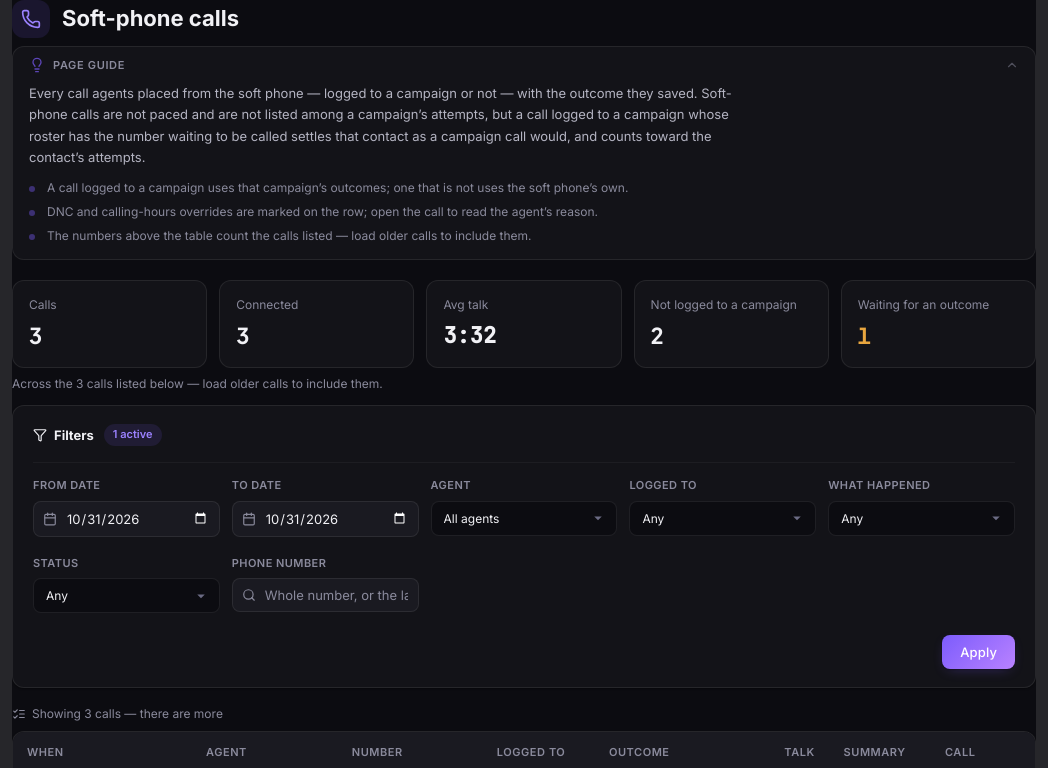
Test: Soft-phone calls (the account list) › Clear goes back to the view it opened on (today), not to all time
Type "2026-10-01" into the date field with test id "filter-from". click: (126, 518)
box: [33,500,220,536]
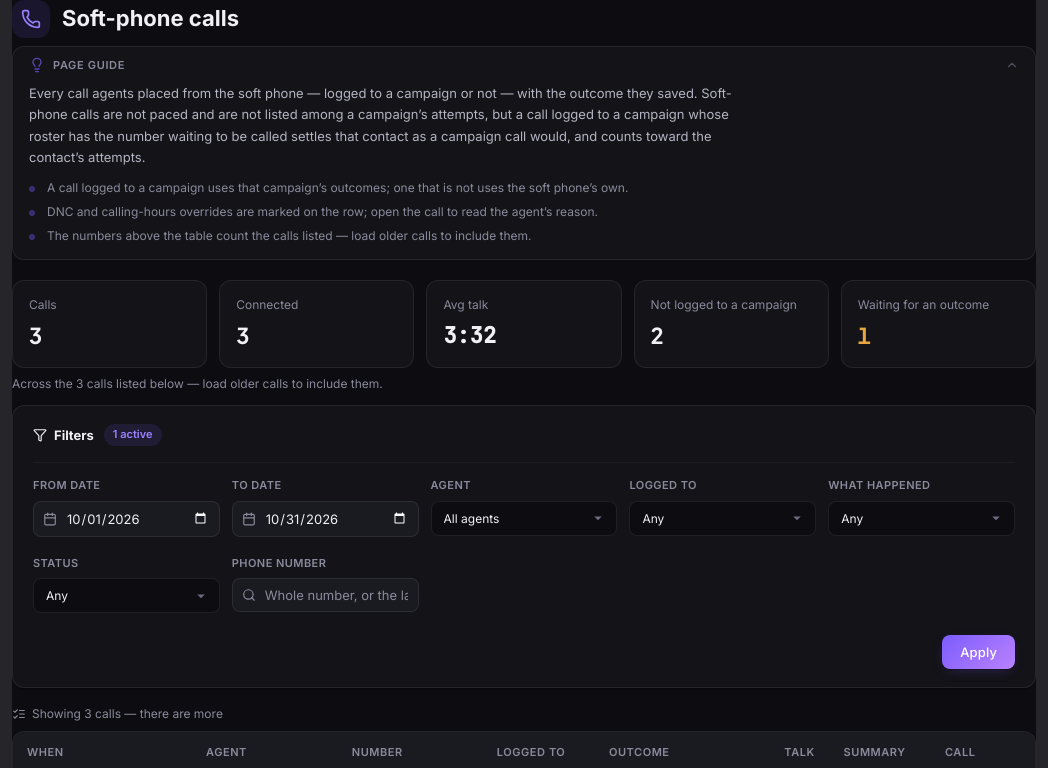
Select "Busy" in the dropdown with test id "filter-outcome". click: (922, 518)
box: [828,500,1015,536]
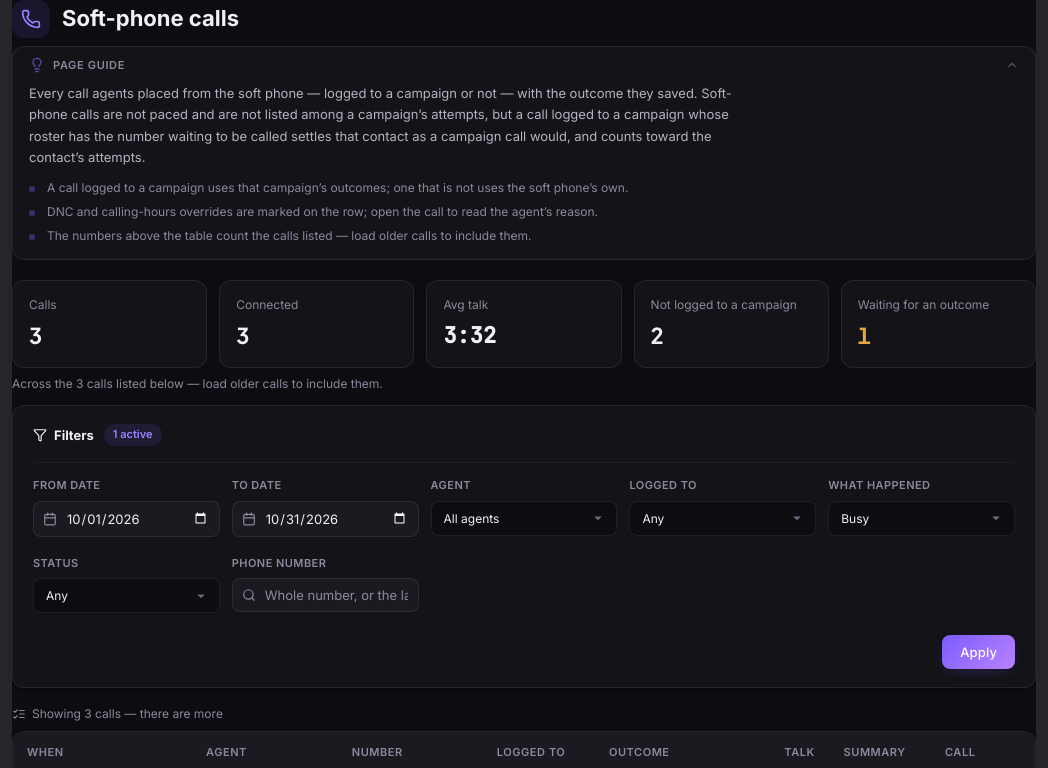
Click the button with test id "filter-apply". click: click(979, 652)
box: [942,635,1015,669]
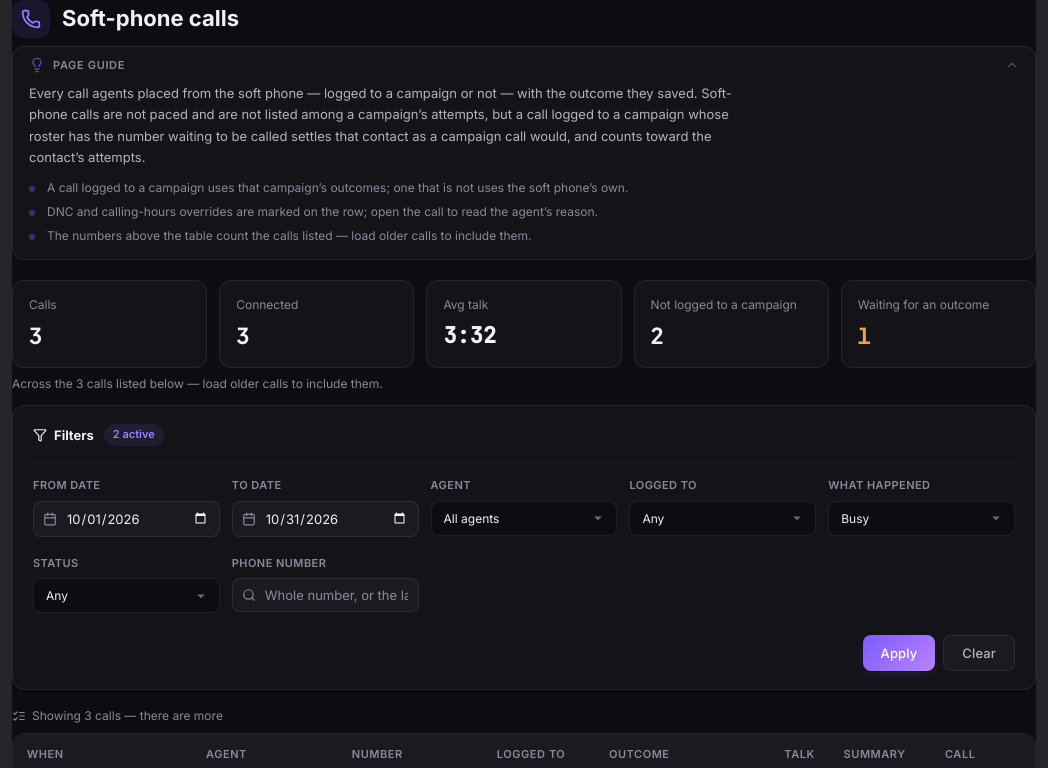
Click the button with test id "filter-clear". click: click(979, 653)
box: [943,635,1015,671]
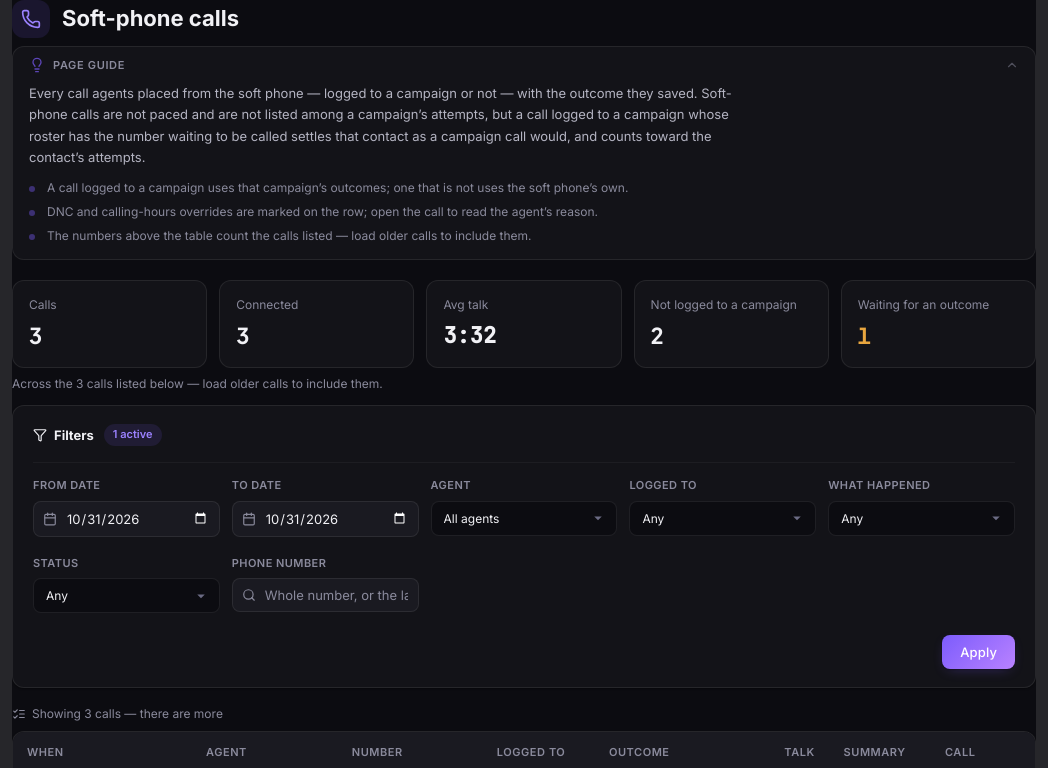
Check: the button with test id "filter-clear" is gone
